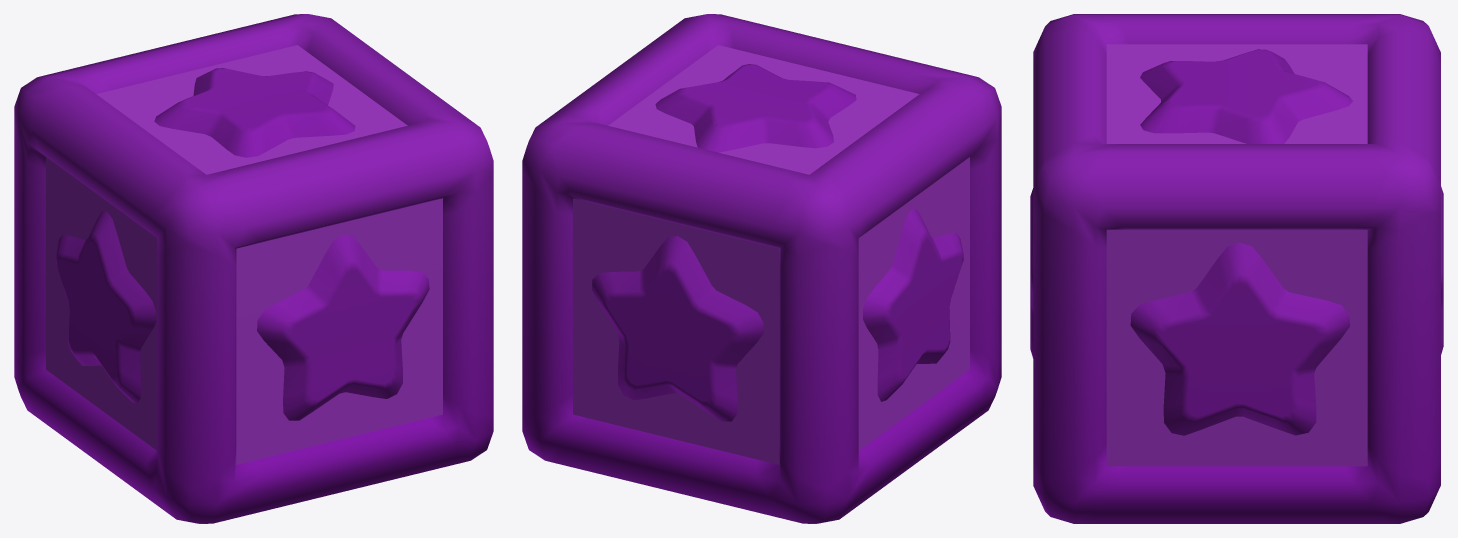
File: Star_Block_Purple.fbx
The picture shows the model from 3 angles, left to right: view 1: azimuth 30°, elevation 25°; view 2: azimuth 150°, elevation 25°; view 3: azimuth 270°, elevation 25°; orthographic projection. The views are drawn at different scales.
Visible parts, largest first — view 1: Star Block_Purple; view 2: Star Block_Purple; view 3: Star Block_Purple.
Boxes of the visible parts, x1,y1,x2,y2 form: Star Block_Purple: (14, 14, 493, 523); Star Block_Purple: (522, 14, 1001, 523); Star Block_Purple: (1030, 14, 1443, 523).
Size of the model in its own units: 101 by 101 by 101.
